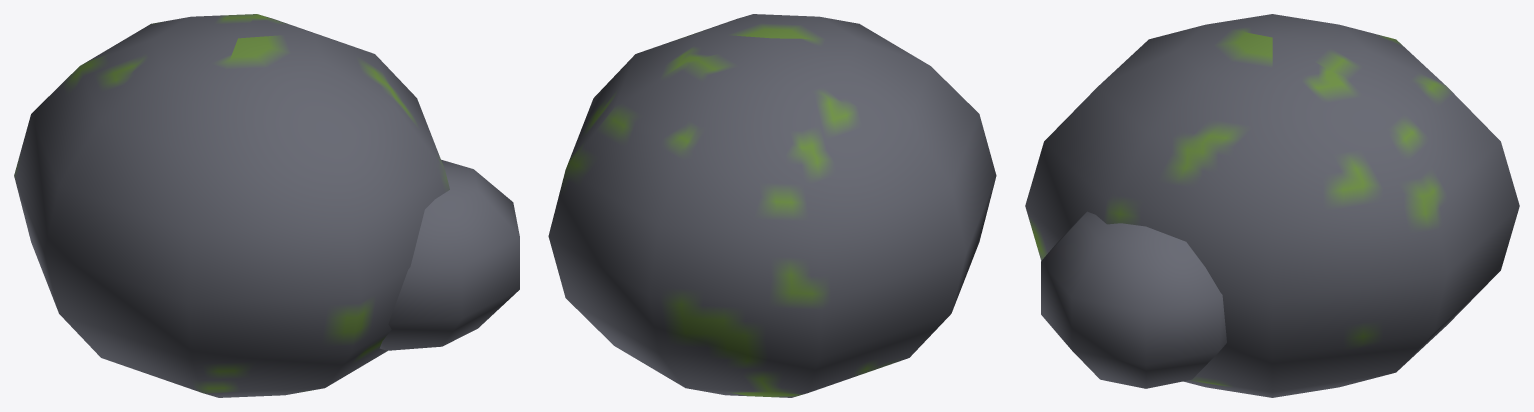
The model's file is prop_rock3_5285.glb.
3 renders of one model, left to right at view 1: azimuth 30°, elevation 25°; view 2: azimuth 150°, elevation 25°; view 3: azimuth 270°, elevation 25°, orthographic.
Visible parts, largest first — view 1: prop_rock3_5285; view 2: prop_rock3_5285; view 3: prop_rock3_5285.
Part boxes in pixels (bbox=[...]): prop_rock3_5285: bbox=[14, 14, 519, 397]; prop_rock3_5285: bbox=[548, 14, 996, 397]; prop_rock3_5285: bbox=[1025, 14, 1519, 397].
Bounding box in the file's own units: 0.6596 × 0.5202 × 0.6922.
Materials: 1 (1 with a texture image).
